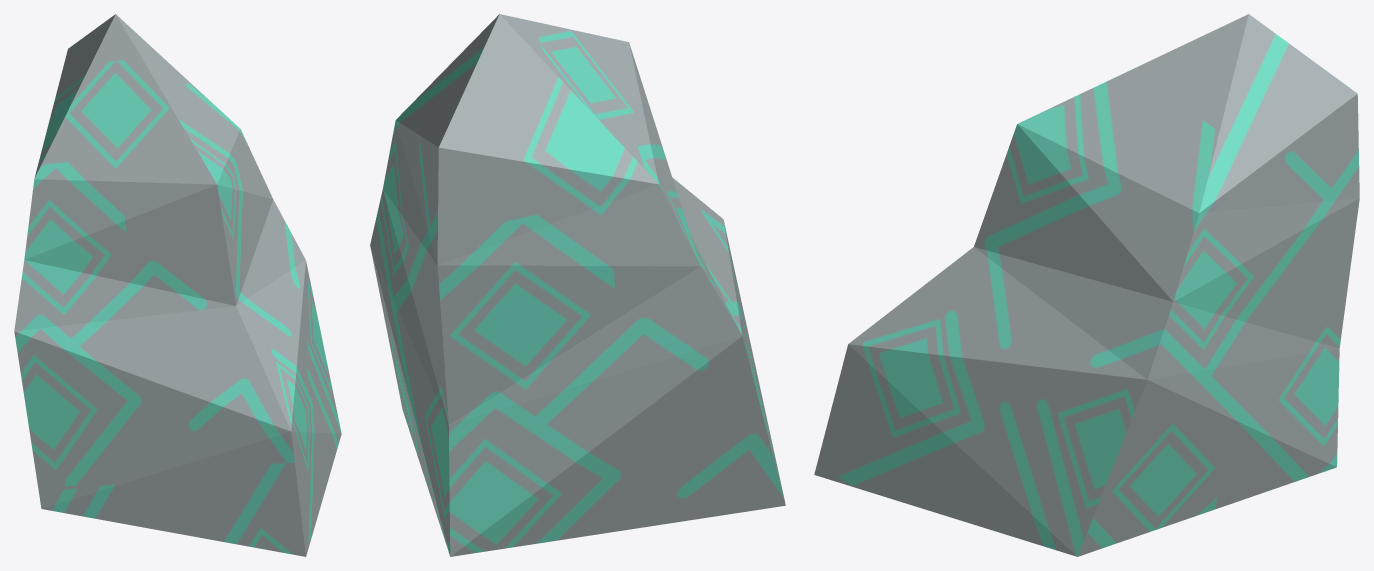
Rendered from Big stone2.fbx.
3 views of the same model, side by side, from view 1: azimuth 30°, elevation 25°; view 2: azimuth 150°, elevation 25°; view 3: azimuth 270°, elevation 25° (orthographic). The views are drawn at different scales.
Visible parts, largest first — view 1: Big stone2; view 2: Big stone2; view 3: Big stone2.
Boxes of the visible parts, left/top/right/bottom form: Big stone2: left=14, top=14, right=341, bottom=556; Big stone2: left=370, top=14, right=785, bottom=556; Big stone2: left=814, top=14, right=1359, bottom=556.
Size of the model in its own units: 690 by 887 by 951.
